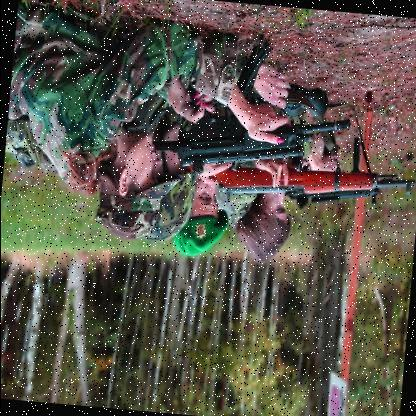rifle: (150, 23, 350, 193), (289, 96, 416, 224), (205, 124, 398, 203)
